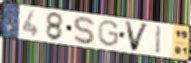4: (20, 9, 39, 38)
8: (45, 11, 65, 42)
G: (96, 19, 120, 48)
I: (155, 24, 163, 55)
S: (72, 15, 96, 46)
V: (123, 20, 151, 53)
